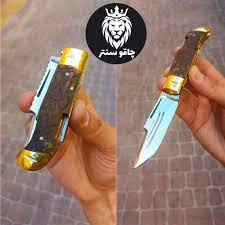Knife: (130, 25, 213, 176)
